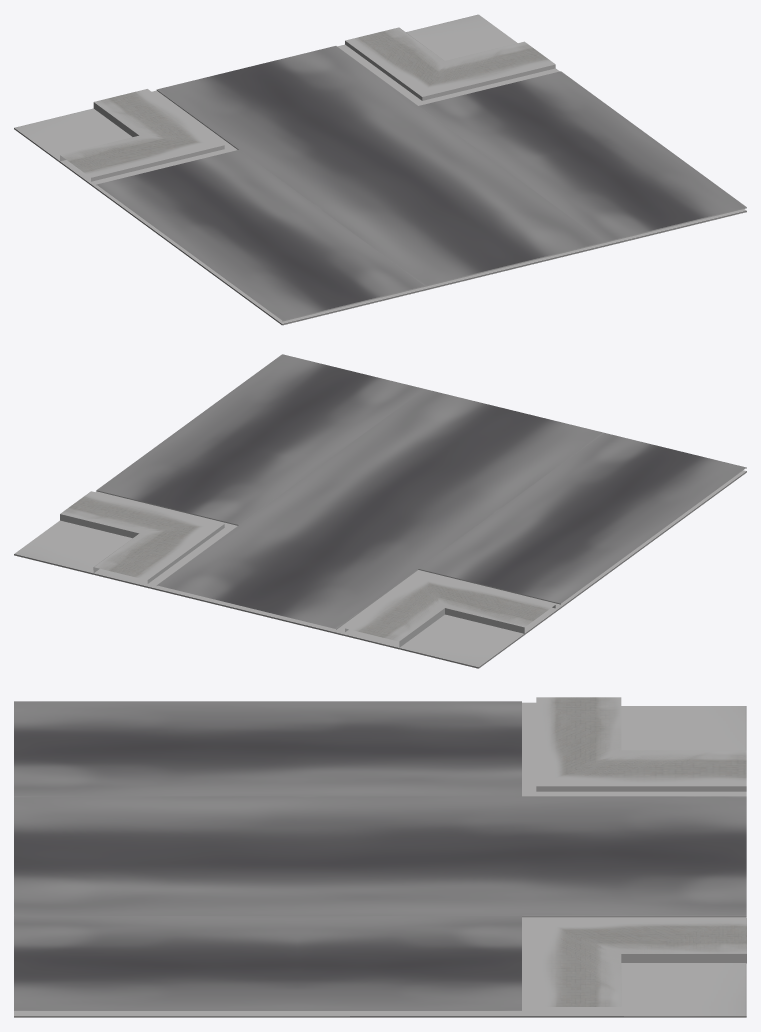
The model's file is Car_Park_Straight_Entry.fbx.
3 views of the same model, one above another, from view 1: azimuth 30°, elevation 25°; view 2: azimuth 150°, elevation 25°; view 3: azimuth 270°, elevation 25° (orthographic). The views are drawn at different scales.
Parts seen in each view (by area): view 1: Road_10X33, Road_10X25; view 2: Road_10X33, Road_10X25; view 3: Road_10X33, Road_10X25.
Boxes of the visible parts, x1,y1,x2,y2 form: Road_10X33: [60, 27, 746, 321]; Road_10X25: [14, 14, 746, 325]; Road_10X33: [60, 354, 746, 647]; Road_10X25: [14, 470, 746, 668]; Road_10X33: [14, 697, 746, 1012]; Road_10X25: [14, 706, 746, 1017].
Bounding box in the file's own units: 1000 × 15.95 × 1000.
